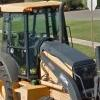Tractor: (11, 6, 90, 100)
